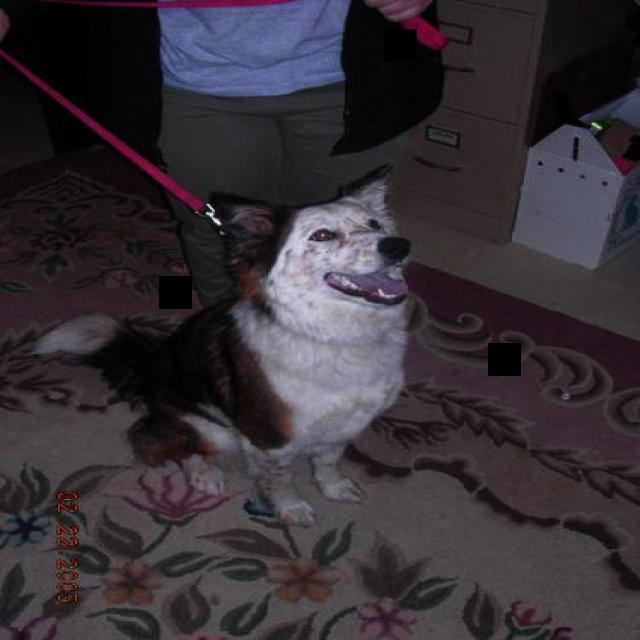adult_dog: (25, 159, 416, 528)
